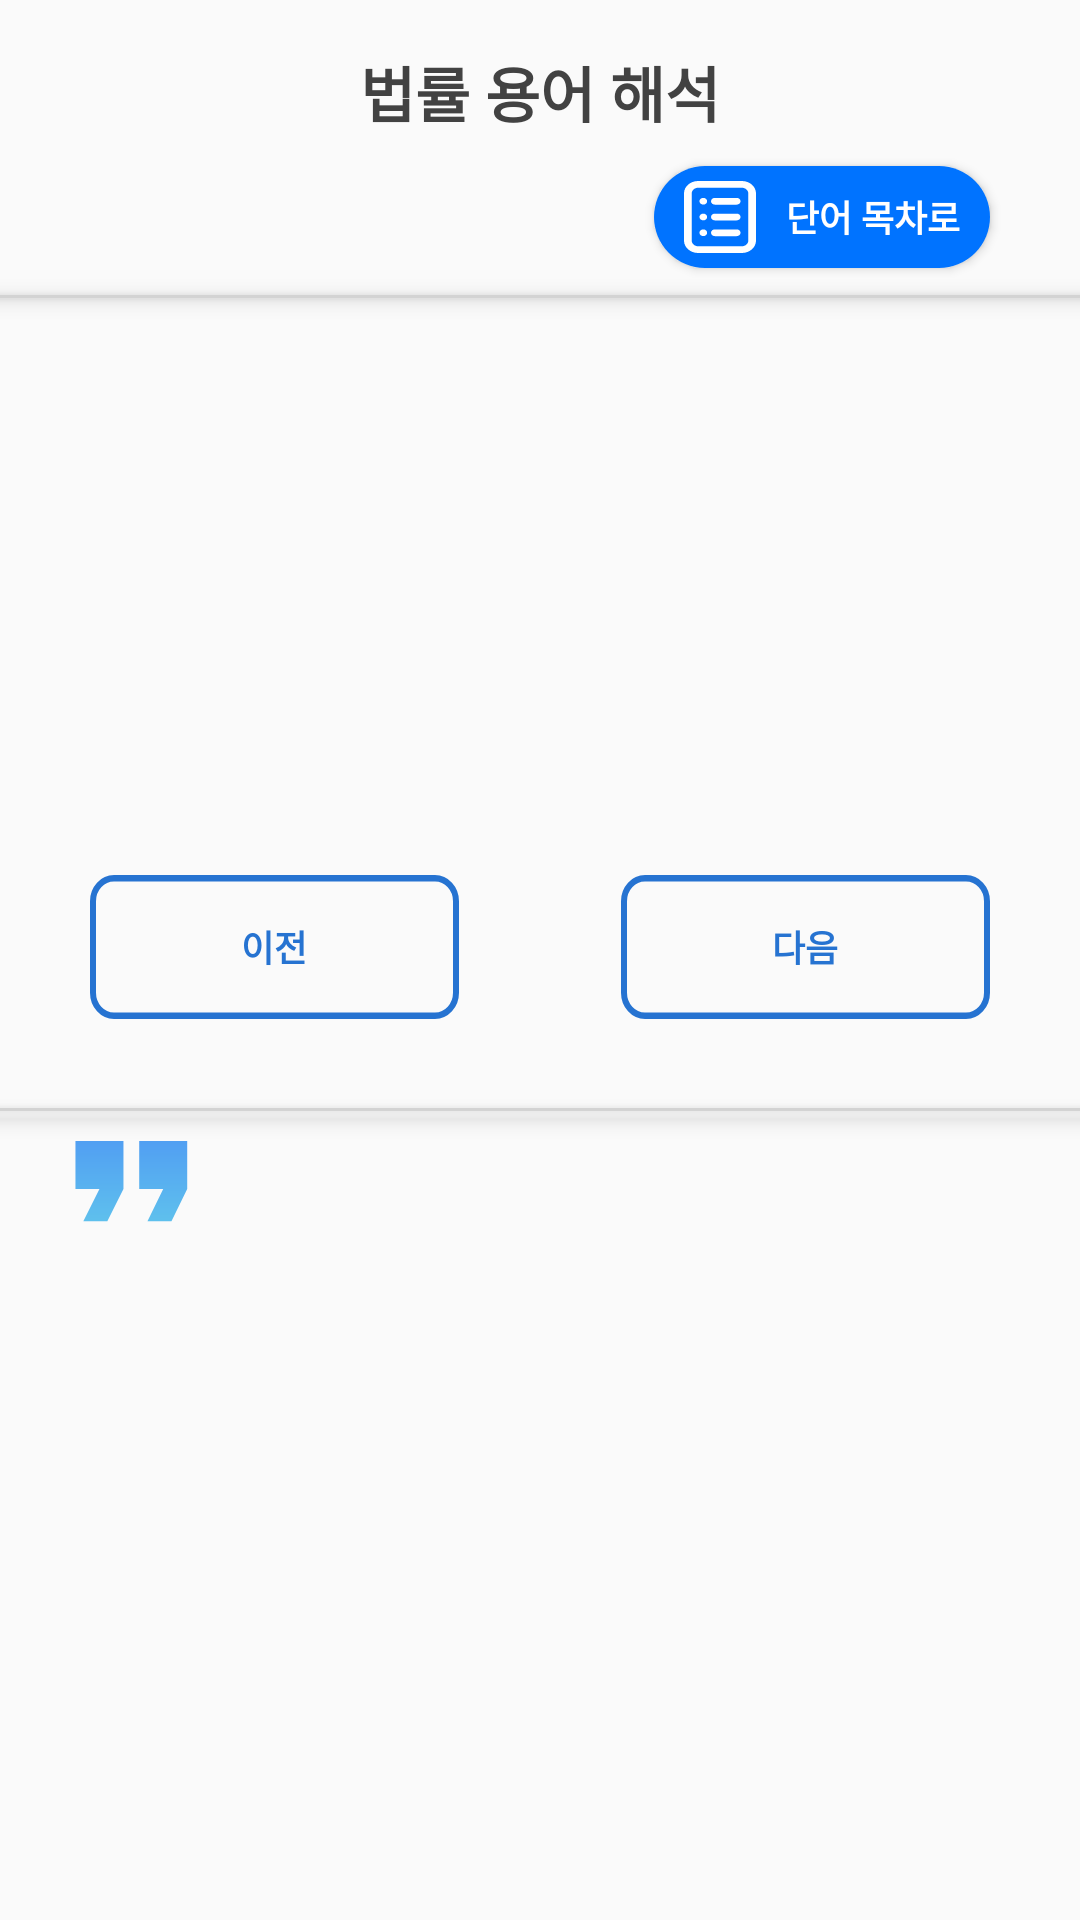

Icons on this 1080 x 1920 Android screen, each with its box as Rect(x1, y1, x2, y2):
law word format quote: Rect(75, 1141, 188, 1222)
